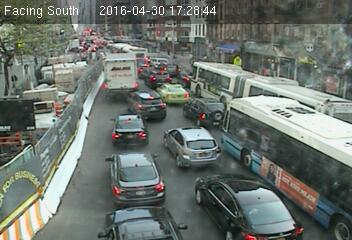neg: (267, 58, 281, 77), (180, 73, 193, 90), (171, 42, 180, 55), (156, 61, 165, 73)
